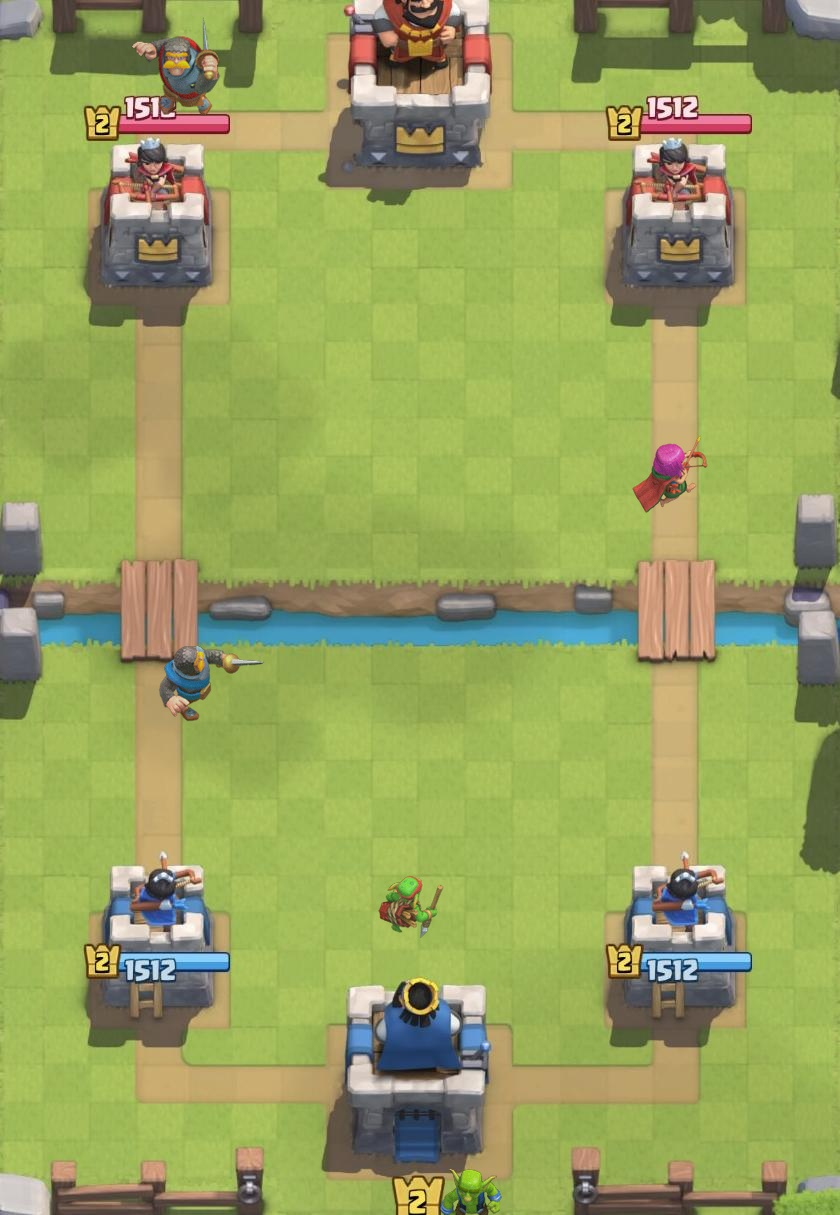archer_enemy: (632, 435, 708, 513)
goblin_ally: (440, 1168, 502, 1215)
knight_ally: (159, 646, 265, 722)
knight_enemy: (131, 17, 221, 116)
spoblin_enemy: (378, 875, 444, 938)
